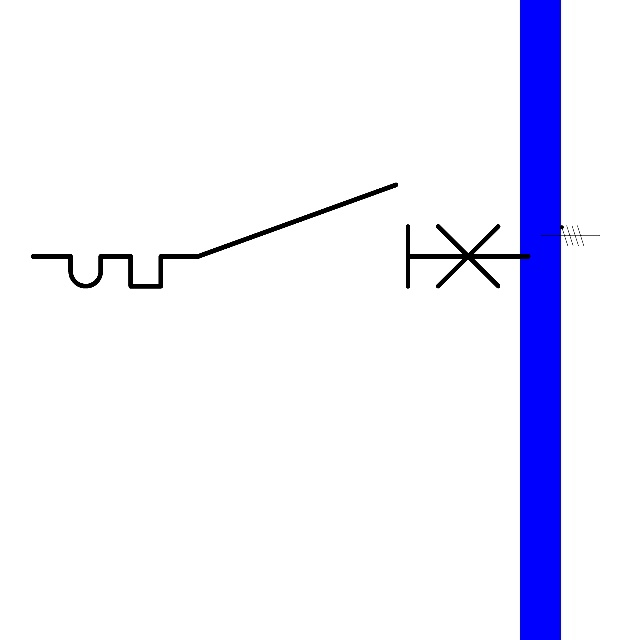interruptor_termomagnetico: (20, 172, 541, 299)
